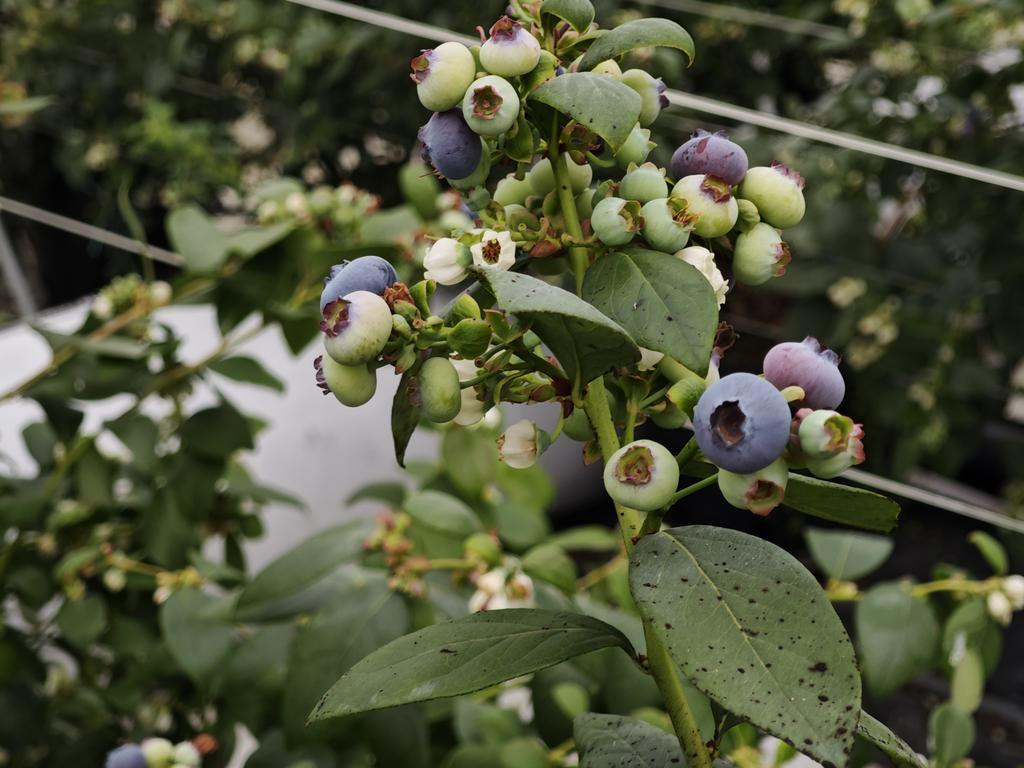RipeBlueBerry: (694, 371, 790, 473), (416, 110, 484, 180), (319, 252, 398, 308)
Semi-RipeBlueBerry: (766, 335, 848, 410), (669, 130, 756, 180)
UnripeBlueBerry: (603, 437, 680, 513), (316, 290, 393, 364), (744, 162, 807, 228), (411, 42, 473, 109), (481, 19, 541, 76)
